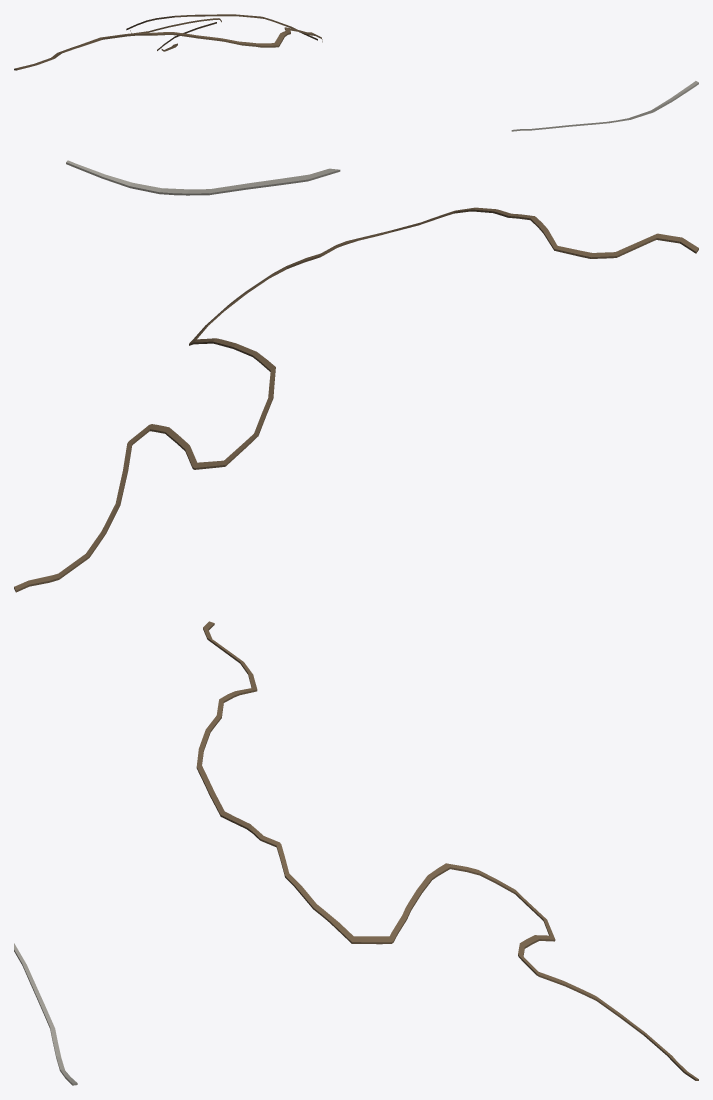
The picture shows the model from 3 angles, top to bottom: view 1: azimuth 30°, elevation 25°; view 2: azimuth 150°, elevation 25°; view 3: azimuth 270°, elevation 25°; orthographic projection. The views are drawn at different scales.
Size of the model in its own units: 270 by 98.48 by 235.
